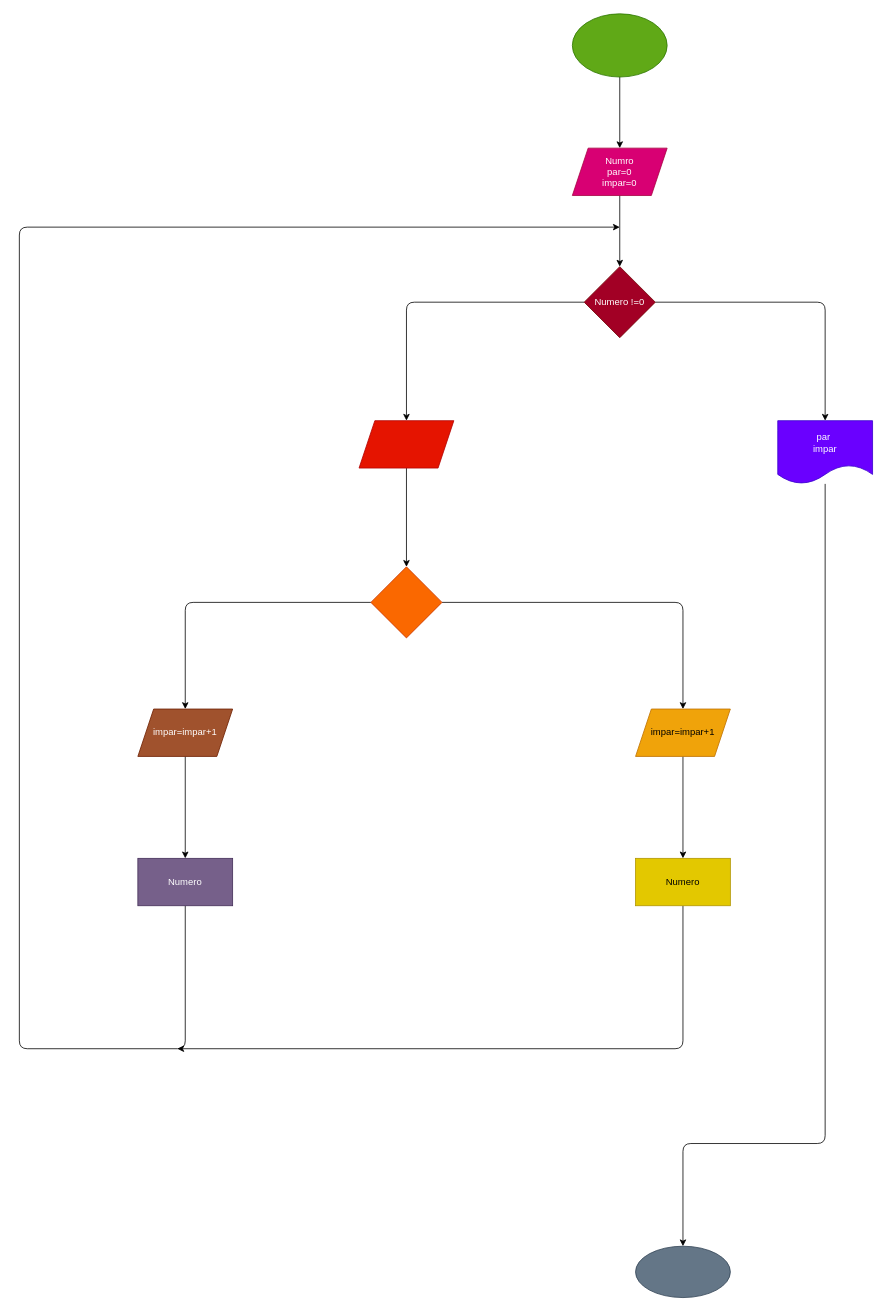
The diagram is 886 pixels wide and 1311 high, and some of its shapes have lost their labels. The shapes that lost their labels are listed below. From the top down, each one's centre as x and y in pixels, then its label:
At point 619,45: "INICIO".
At point 406,444: "numero=%2".
At point 406,602: "Numero=0".
At point 682,1271: "FIN".
